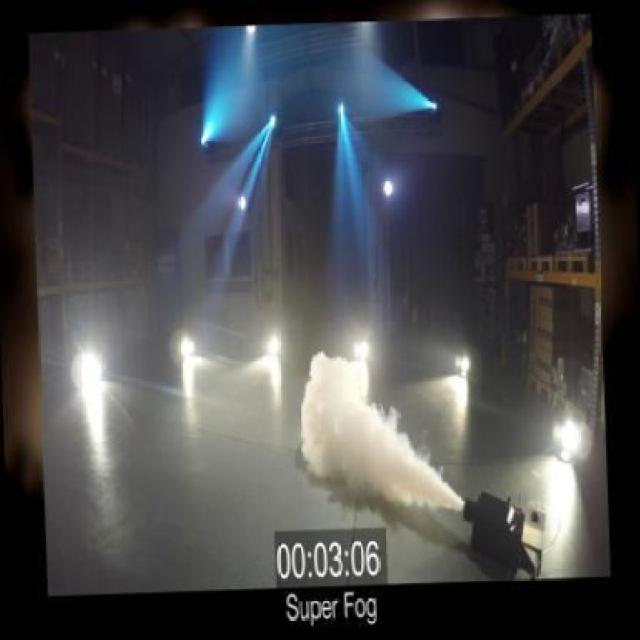fire: (295, 348, 454, 514)
